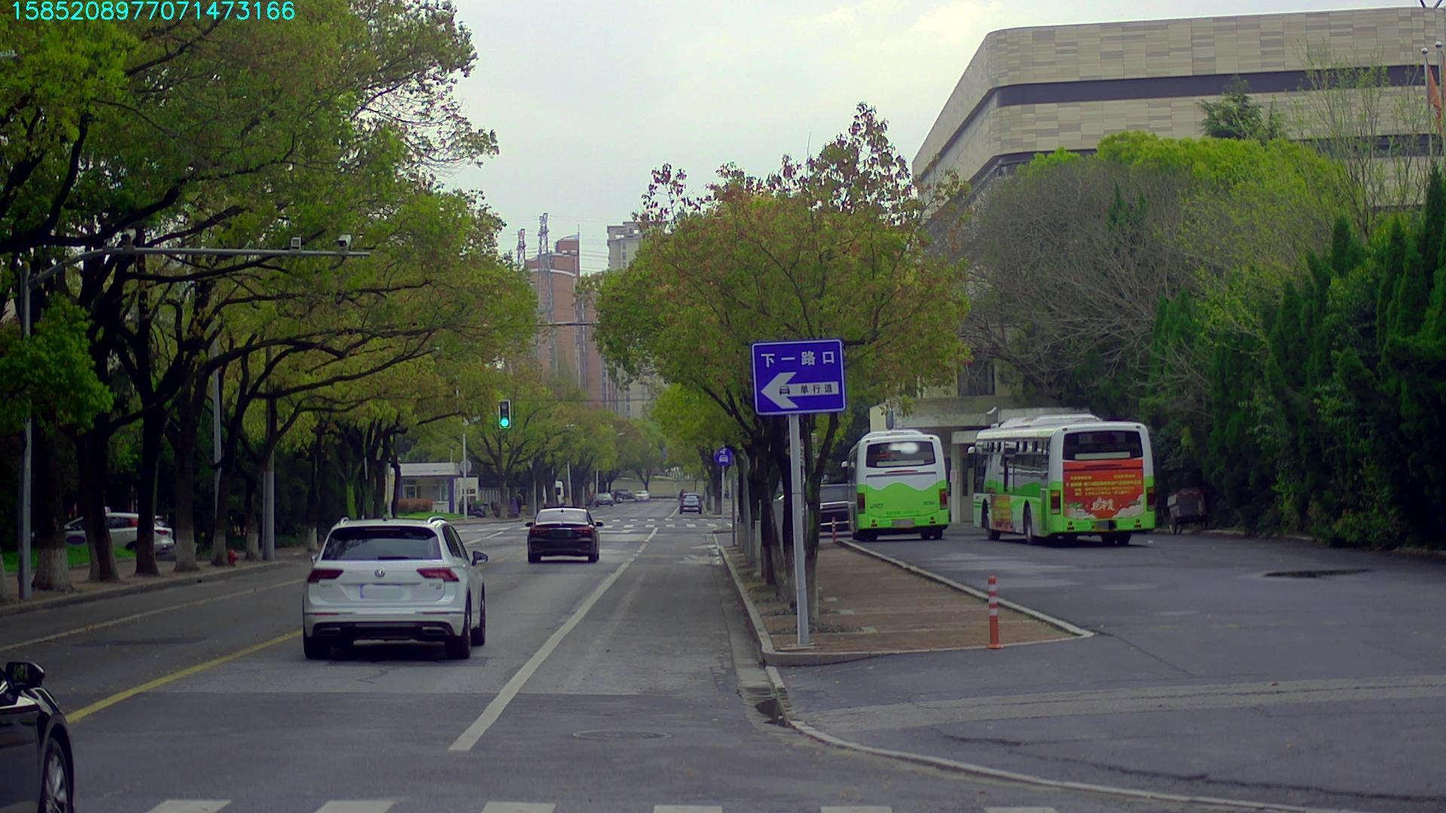green: (499, 400, 509, 428)
